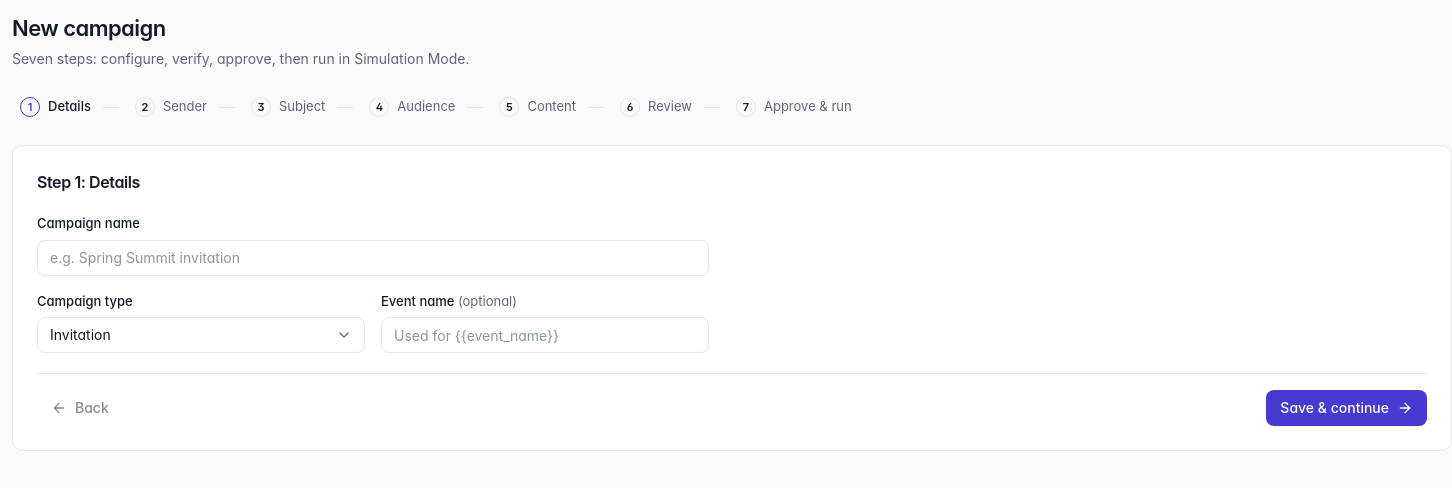
it: Campaign wizard › validates step 1 and creates the campaign on continue
Step 1. Click the button "Save & continue" → (1347, 408), box [1266,390,1427,426]
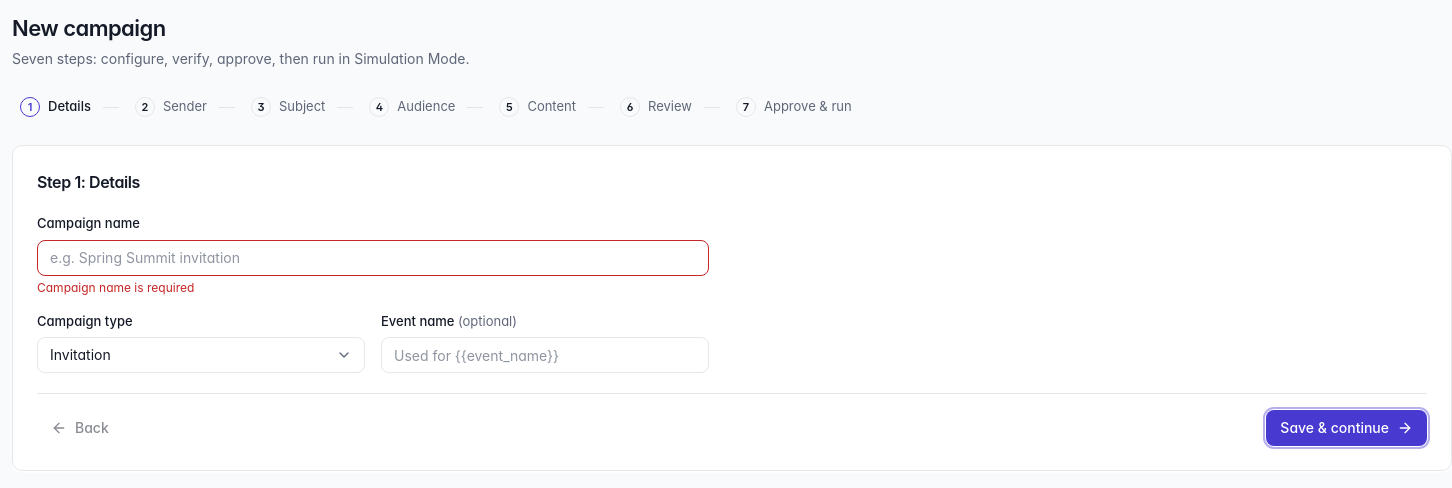
Expected: the text "Campaign name is required" is shown, [37,280,194,294]
Step 2. Type "Spring" into the field labelled "Campaign name" → (373, 258), box [37,240,709,276]
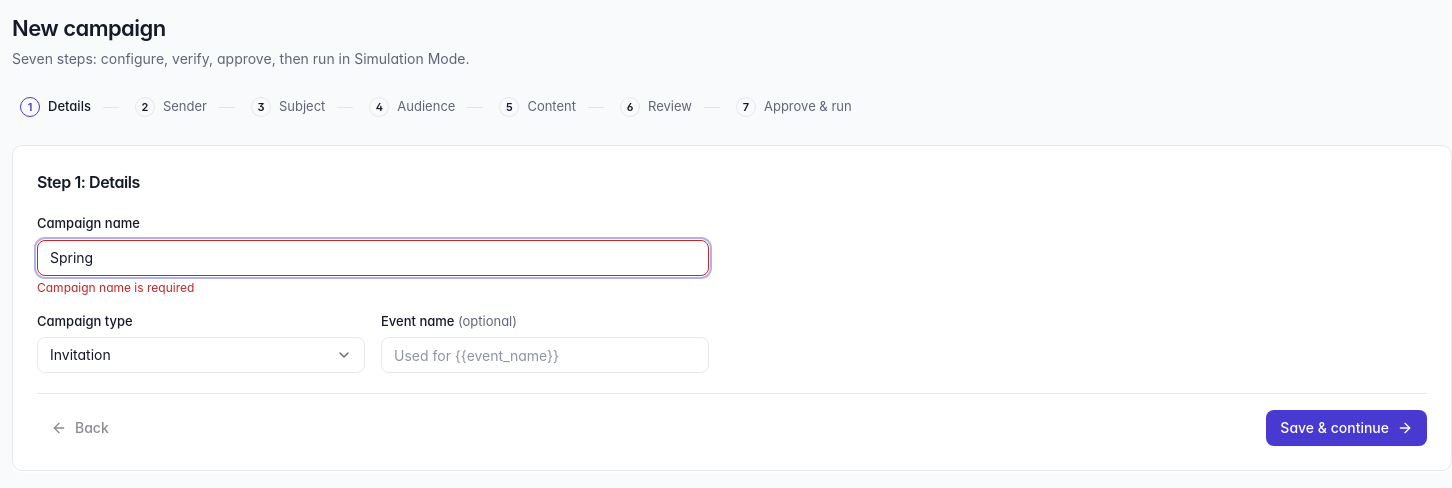
Step 3. Click the button "Save & continue" → (1347, 428), box [1266,410,1427,446]
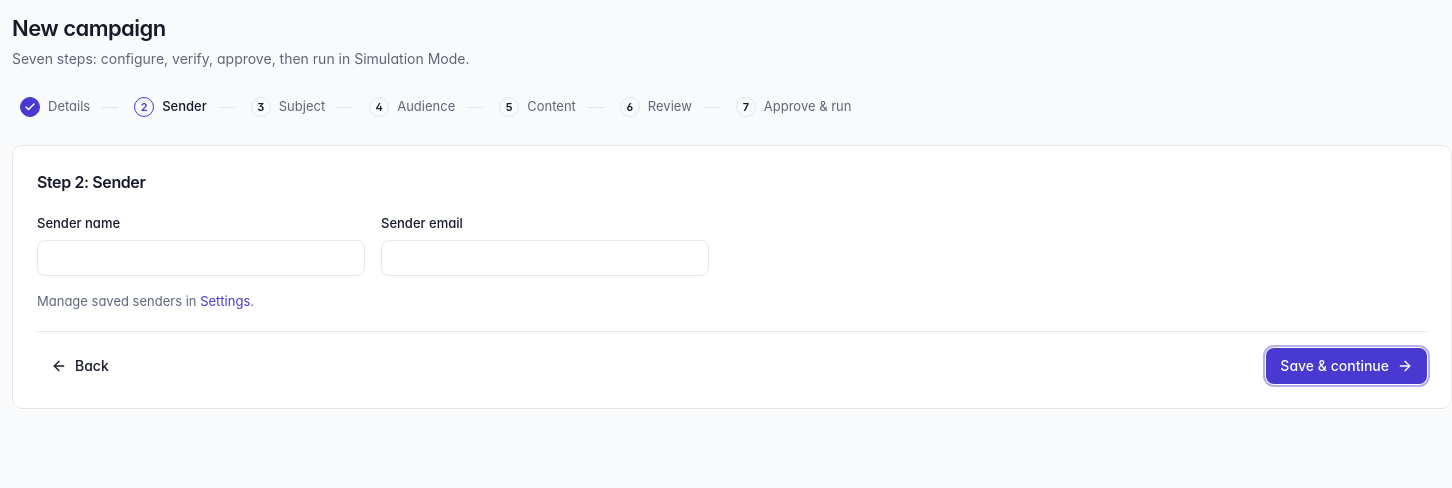
Expected: the heading "Step 2: Sender" is shown, [37,172,145,192]
